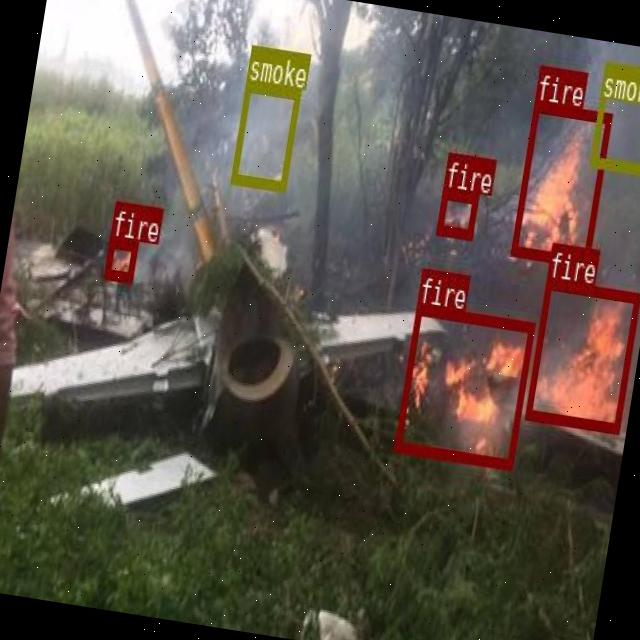fire: (392, 302, 534, 469), (524, 279, 640, 433), (509, 102, 612, 266), (435, 188, 478, 238), (104, 236, 138, 281)
smoke: (230, 82, 300, 188), (588, 61, 640, 174)
